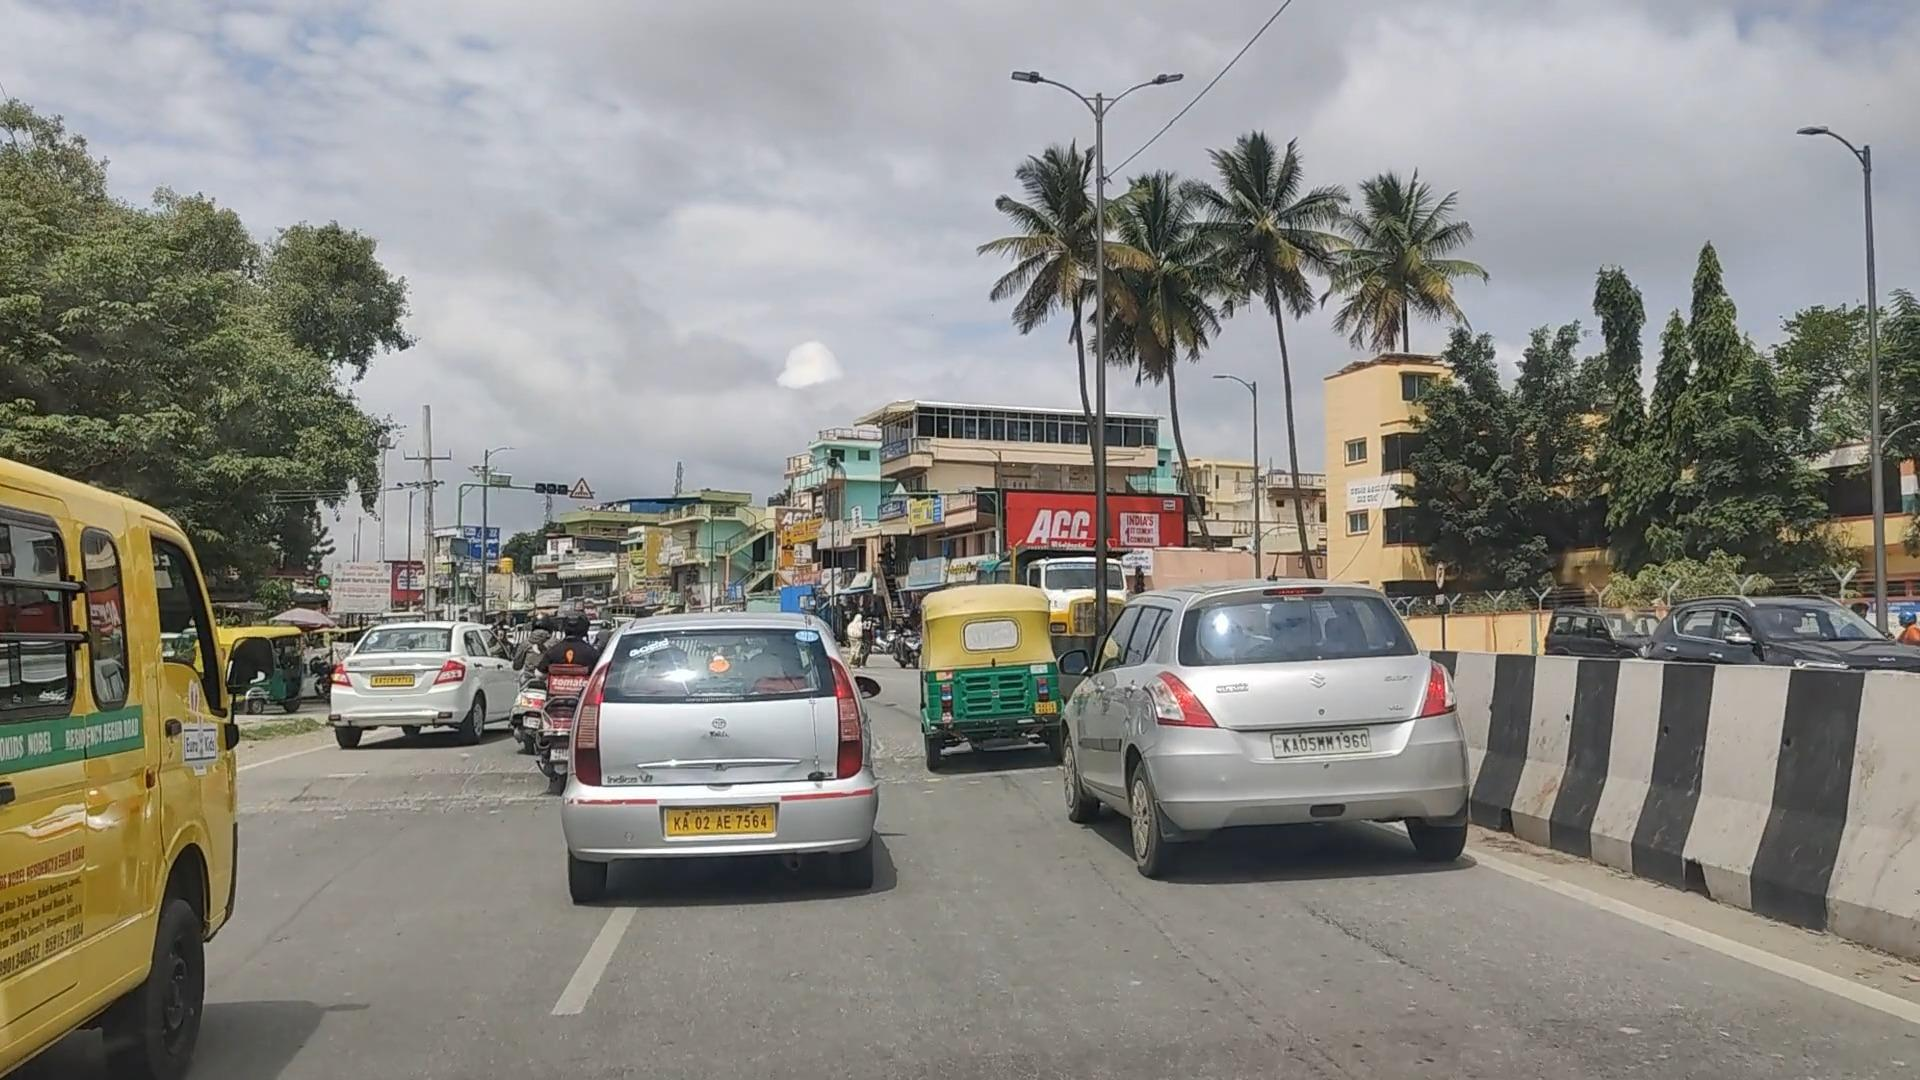LMV: (0, 438, 413, 1080), (1069, 579, 1466, 894), (539, 607, 894, 911), (909, 553, 1067, 762), (328, 597, 522, 767)
